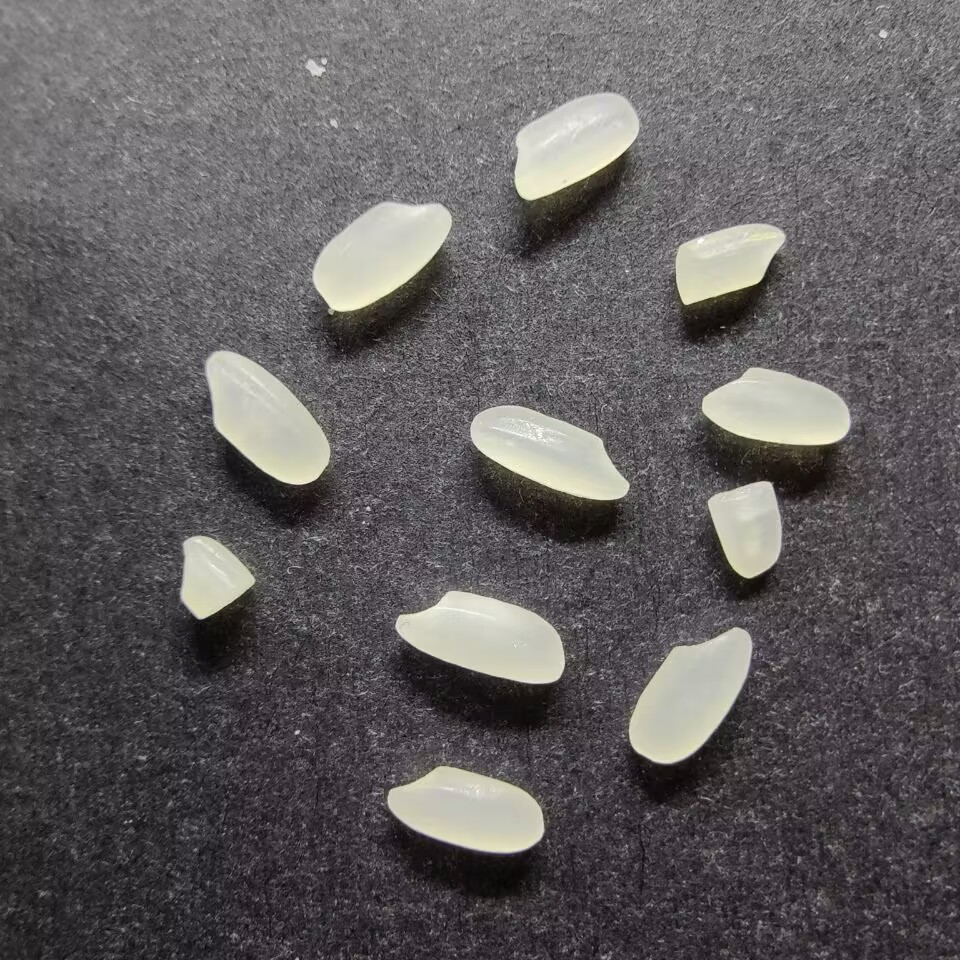broken: (672, 223, 787, 305), (706, 479, 783, 581), (178, 534, 258, 620)
rice: (201, 349, 334, 487), (626, 626, 755, 765), (393, 588, 566, 685), (310, 198, 453, 312), (467, 404, 633, 502), (383, 763, 549, 855), (510, 90, 640, 204), (699, 365, 854, 446)
